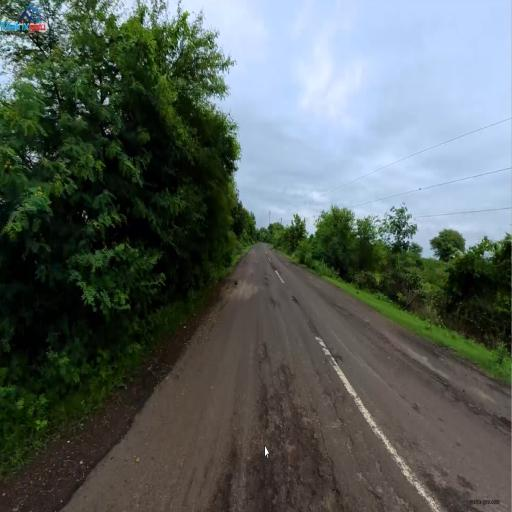ravelling: (248, 340, 347, 502)
